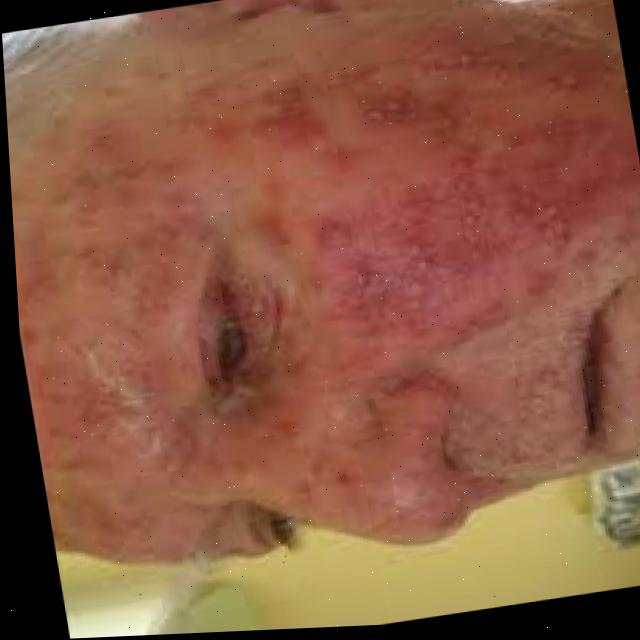Rosacea: (156, 7, 640, 378), (7, 110, 224, 568), (284, 378, 449, 551)
